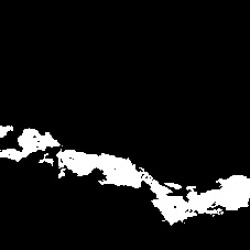crack: (1, 124, 248, 227)
